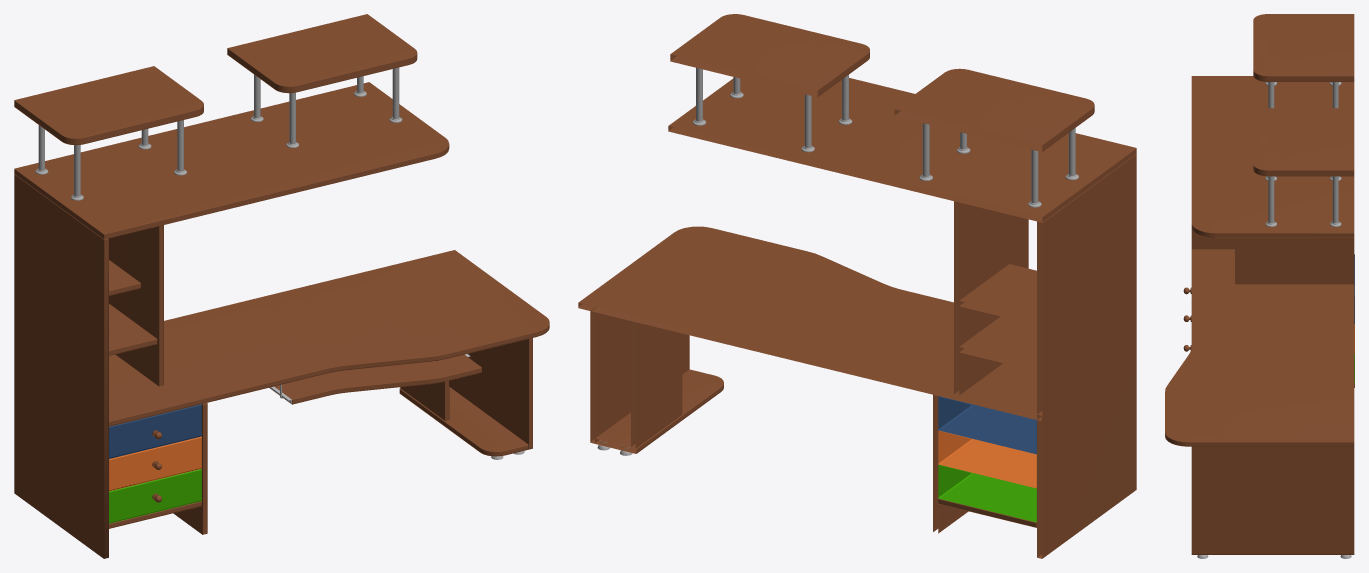
Rendered from table_pc.fbx.
3 views of the same model, side by side, from view 1: azimuth 30°, elevation 25°; view 2: azimuth 150°, elevation 25°; view 3: azimuth 270°, elevation 25° (orthographic). The views are drawn at different scales.
Visible parts, largest first — view 1: table_pc; view 2: table_pc; view 3: table_pc.
Part boxes in pixels (x1,y1,x2,y2): table_pc: [14, 14, 549, 558]; table_pc: [578, 14, 1136, 558]; table_pc: [1165, 14, 1354, 558].
Size of the model in its own units: 3.51 by 2.99 by 1.44.
